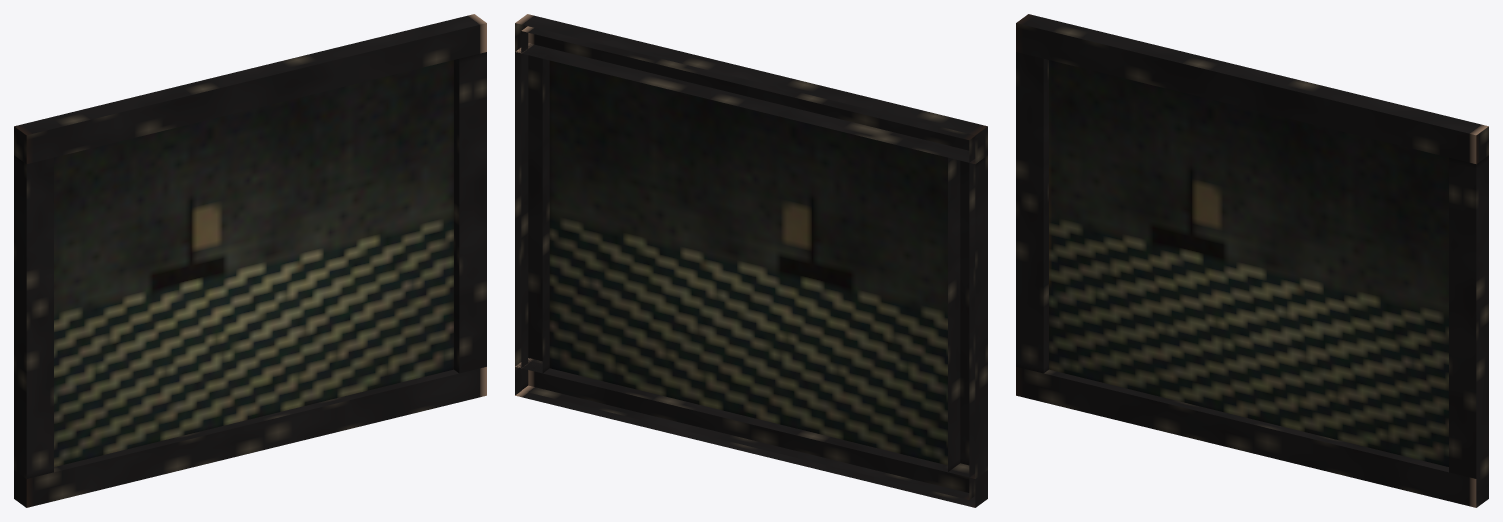
The model's file is Atmos_Painting_Sea_Black.fbx.
The picture shows the model from 3 angles, left to right: view 1: azimuth 30°, elevation 25°; view 2: azimuth 150°, elevation 25°; view 3: azimuth 330°, elevation 25°; orthographic projection.
Parts seen in each view (by area): view 1: Atmos_Painting_Sea_Black; view 2: Atmos_Painting_Sea_Black; view 3: Atmos_Painting_Sea_Black.
Part boxes in pixels (left/top/right/bottom): Atmos_Painting_Sea_Black: left=14, top=14, right=486, bottom=507; Atmos_Painting_Sea_Black: left=515, top=14, right=987, bottom=507; Atmos_Painting_Sea_Black: left=1016, top=14, right=1488, bottom=507.
Bounding box in the file's own units: 75 × 58 × 3.5.
Materials: 1 (1 with a texture image).
